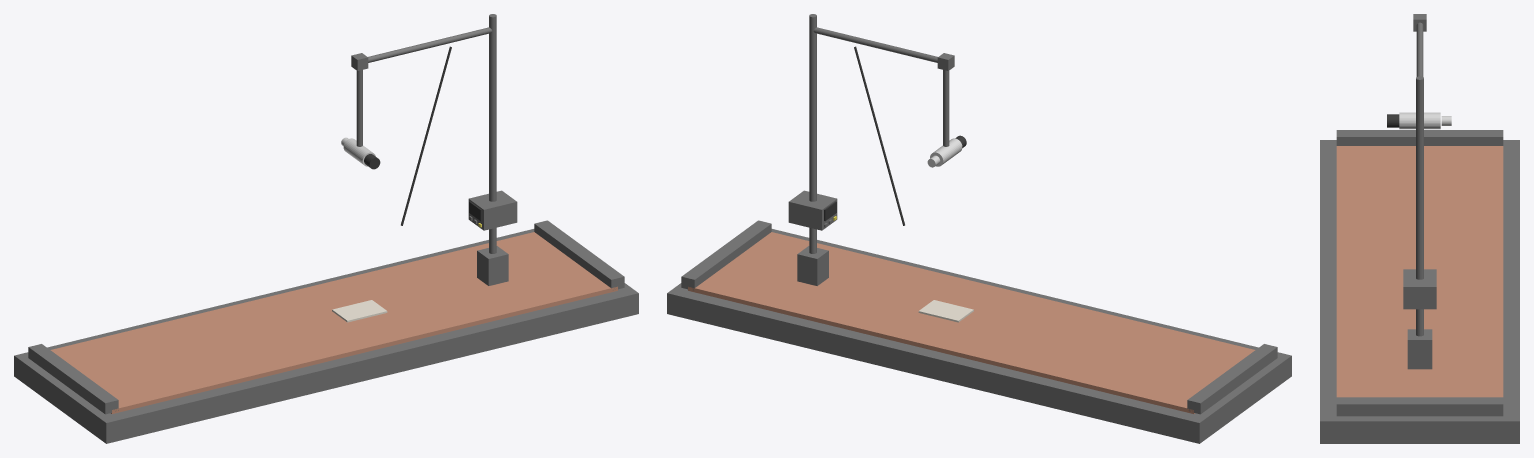
The model's file is yuzey 1.fbx.
3 renders of one model, left to right at view 1: azimuth 30°, elevation 25°; view 2: azimuth 150°, elevation 25°; view 3: azimuth 270°, elevation 25°, orthographic. The views are drawn at different scales.
Parts seen in each view (by area): view 1: ConveyorBelt, ConveyorBase, EdgeProfile2, EdgeProfile1, MainPole, DisplayBox, BaseBracket, HorizontalArm, TestTile; view 2: ConveyorBelt, ConveyorBase, EdgeProfile2, EdgeProfile1, MainPole, DisplayBox, BaseBracket, HorizontalArm, TestTile; view 3: ConveyorBelt, ConveyorBase, EdgeProfile1, EdgeProfile2, MainPole, DisplayBox, BaseBracket, IRSensorBody, HorizontalArm.
Part boxes in pixels (left/top/right/bottom): ConveyorBelt: left=50, top=232, right=617, bottom=413; ConveyorBase: left=14, top=229, right=638, bottom=443; EdgeProfile2: left=28, top=344, right=118, bottom=414; EdgeProfile1: left=534, top=220, right=624, bottom=290; MainPole: left=489, top=14, right=496, bottom=253; DisplayBox: left=468, top=190, right=517, bottom=230; BaseBracket: left=477, top=246, right=508, bottom=285; HorizontalArm: left=368, top=27, right=492, bottom=62; TestTile: left=332, top=300, right=387, bottom=322; ConveyorBelt: left=688, top=232, right=1255, bottom=413; ConveyorBase: left=667, top=229, right=1291, bottom=443; EdgeProfile2: left=1187, top=344, right=1277, bottom=414; EdgeProfile1: left=681, top=220, right=771, bottom=290; MainPole: left=809, top=14, right=816, bottom=253; DisplayBox: left=788, top=190, right=837, bottom=230; BaseBracket: left=797, top=246, right=828, bottom=285; HorizontalArm: left=813, top=27, right=937, bottom=62; TestTile: left=918, top=300, right=973, bottom=322; ConveyorBelt: left=1336, top=146, right=1503, bottom=397; ConveyorBase: left=1320, top=140, right=1519, bottom=443; EdgeProfile1: left=1336, top=397, right=1503, bottom=416; EdgeProfile2: left=1336, top=130, right=1503, bottom=145; MainPole: left=1416, top=76, right=1423, bottom=336; DisplayBox: left=1403, top=269, right=1436, bottom=309; BaseBracket: left=1407, top=329, right=1432, bottom=369; IRSensorBody: left=1399, top=112, right=1440, bottom=129; HorizontalArm: left=1416, top=22, right=1423, bottom=76.
Bounding box in the file's own units: 8 × 4.15 × 2.4.
